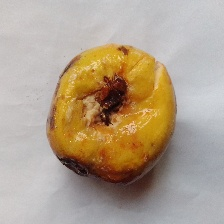guava: (38, 22, 209, 206)
